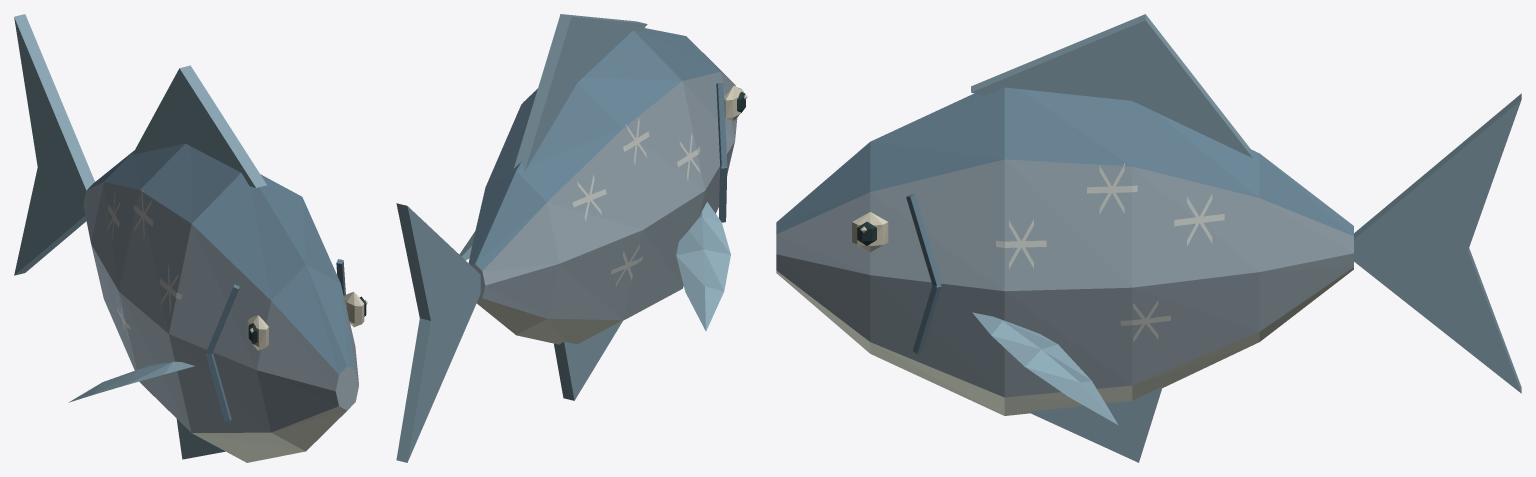
File: fish_snowcarp.glb
3 renders of one model, left to right at view 1: azimuth 30°, elevation 25°; view 2: azimuth 150°, elevation 25°; view 3: azimuth 270°, elevation 25°, orthographic. The views are drawn at different scales.
Parts seen in each view (by area): view 1: fish; view 2: fish; view 3: fish.
Boxes of the visible parts, bbox=[...] form: fish: bbox=[14, 14, 367, 462]; fish: bbox=[396, 14, 747, 462]; fish: bbox=[776, 14, 1521, 462].
Size of the model in its own units: 0.3234 by 0.4655 by 0.7104.
